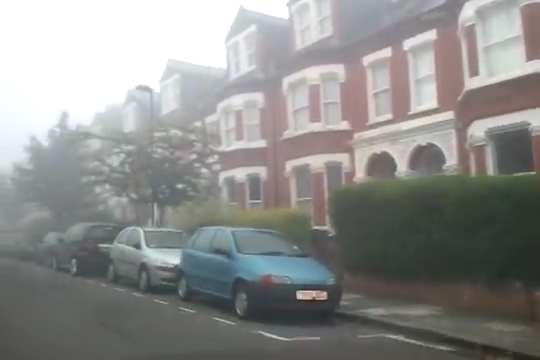car: (177, 223, 343, 322), (105, 219, 201, 295), (49, 219, 127, 278), (31, 227, 83, 273)
